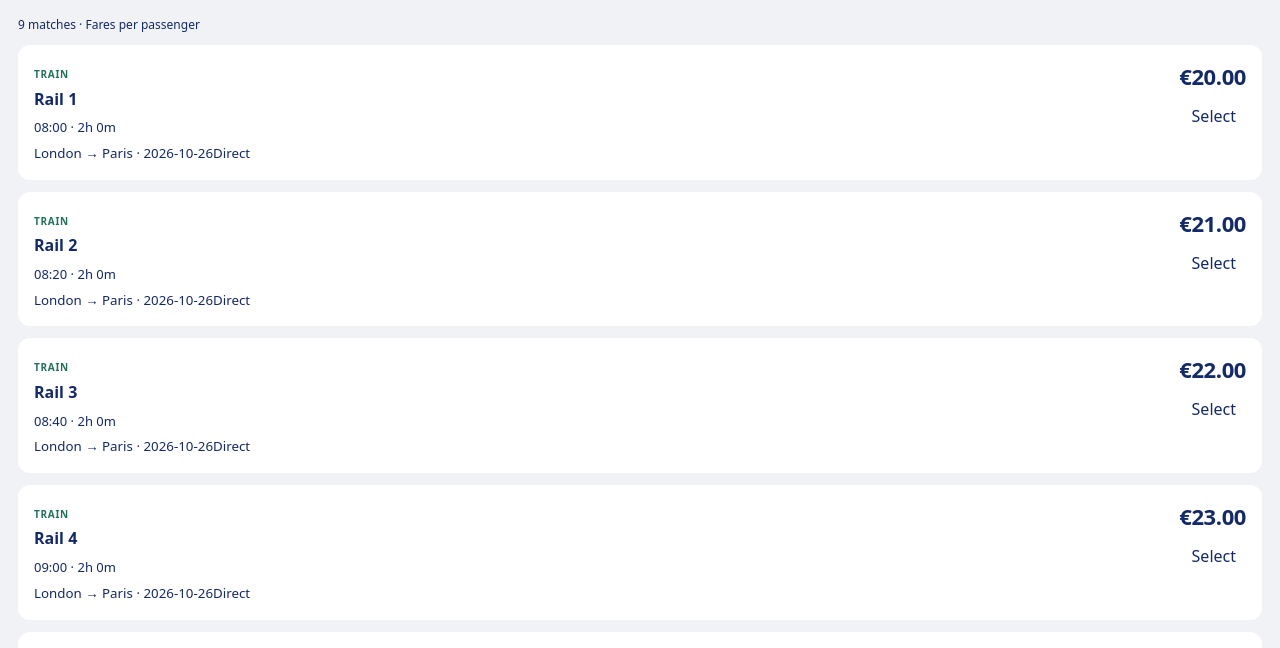
Test: FareCards keyset pagination › requests exactly the seven rendered rows and preserves a prior-page selection
This screenshot has width=1280, height=648.
Expected: the text "Rail 1" is shown, [34, 88, 77, 110]
Step 1. Click the button with aria-label "Select Train Rail 1" → (1214, 117), box [1182, 101, 1246, 133]
(page scrolled)
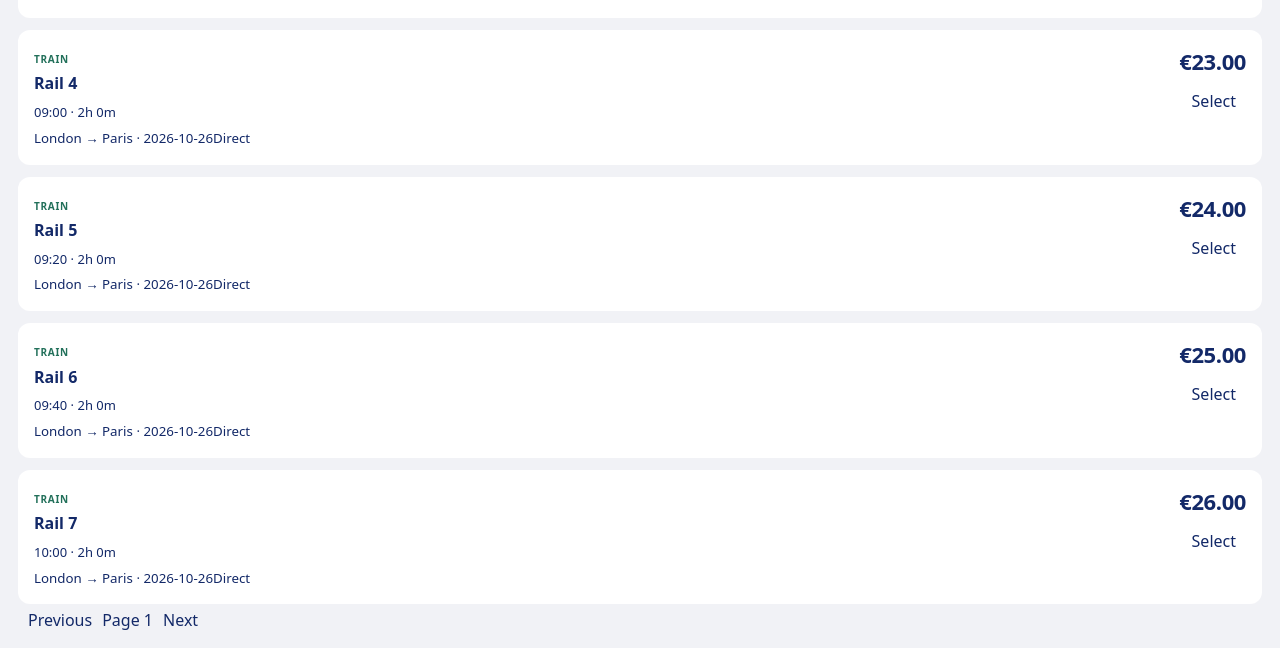
Step 2. Click the button "Next" → (181, 620), box [153, 604, 208, 636]
(page scrolled)
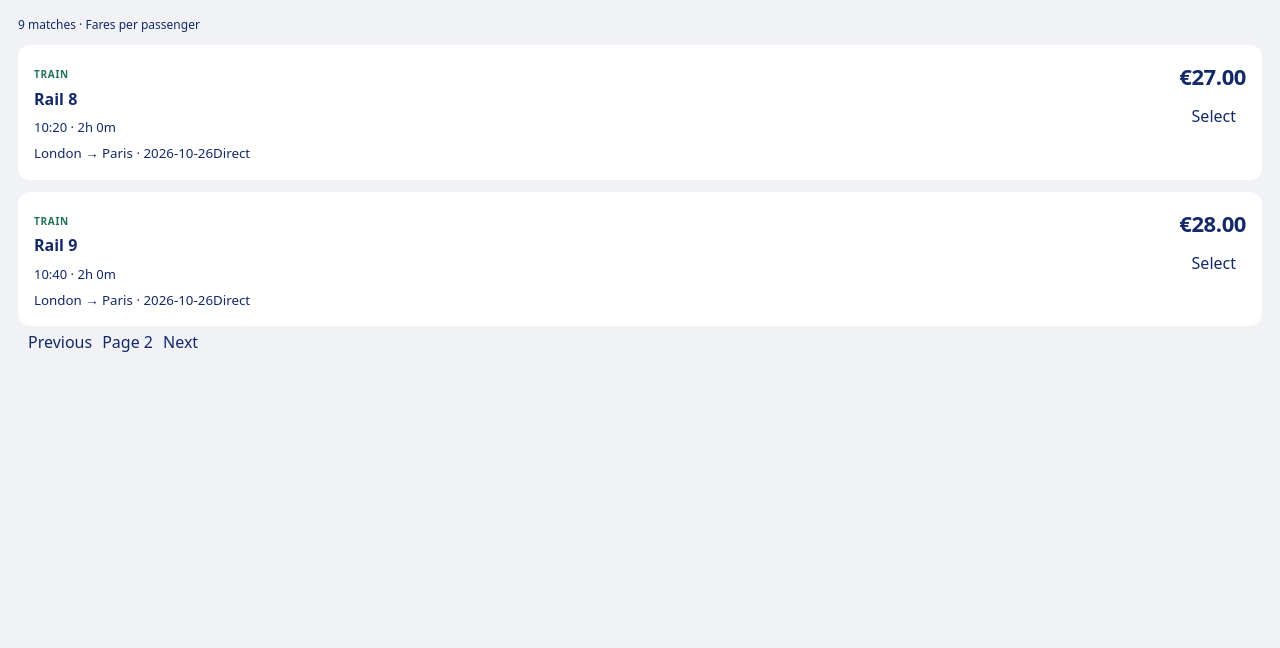
Result: the text "Rail 8" is shown at [34, 88, 77, 110]
Result: the text "Page 2" is shown at [102, 331, 153, 353]
